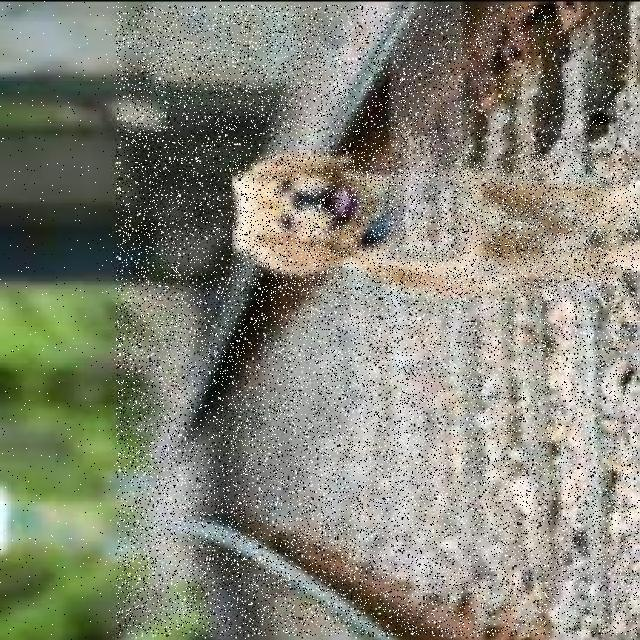danger: (233, 152, 636, 296)
rail: (116, 6, 640, 636)
